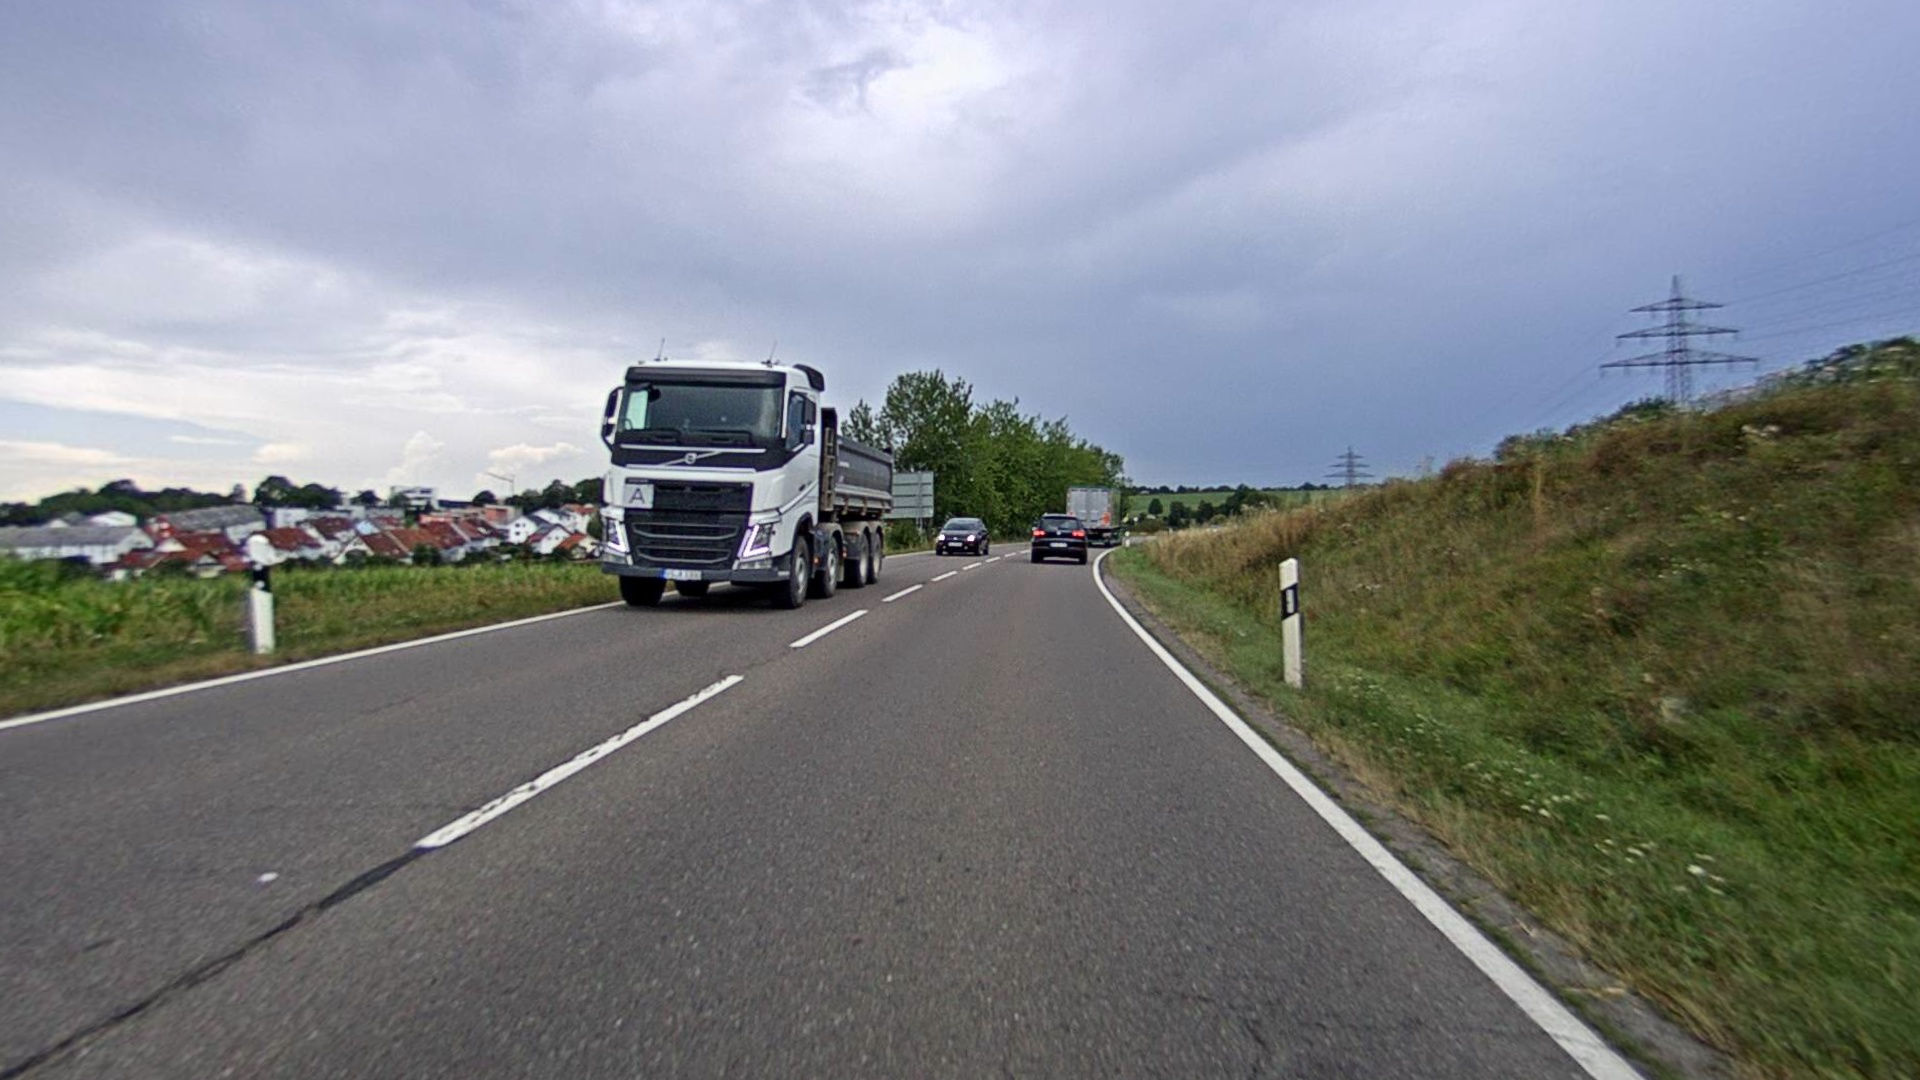truck: (587, 347, 899, 611)
